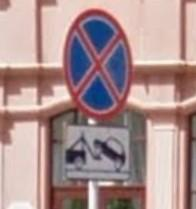No Parking: (64, 10, 135, 121)
